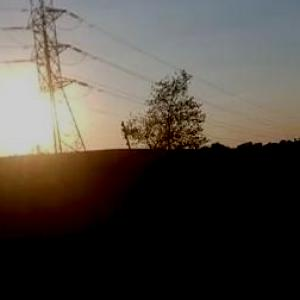follow: (173, 131, 264, 299)
